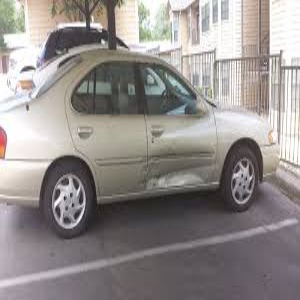door: (129, 150, 213, 191)
